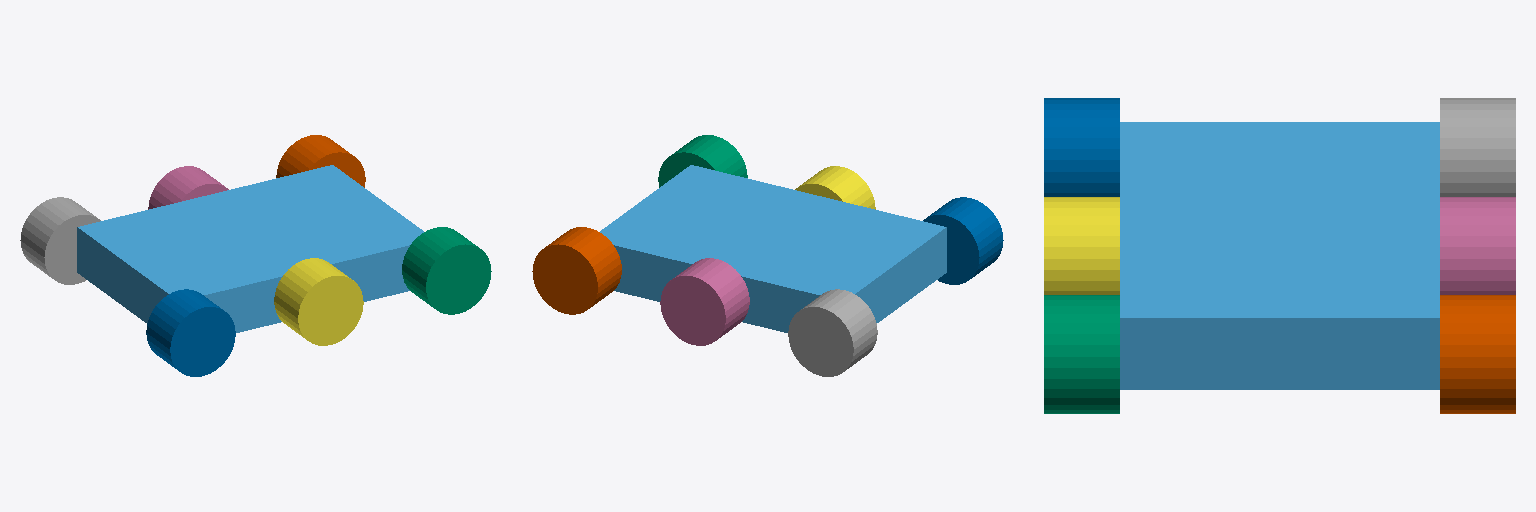
URDF robot description (drivetrain):
<?xml version="1.0" ?>
<!-- =================================================================================== -->
<!-- |    This document was autogenerated by xacro from drivetrain.urdf.xacro          | -->
<!-- |    EDITING THIS FILE BY HAND IS NOT RECOMMENDED                                 | -->
<!-- =================================================================================== -->
<robot name="drivetrain">
  <ros2_control name="right_front_wheel_actuator" type="actuator">
    <hardware>
      <plugin>gazebo_ros2_control/GazeboSystem</plugin>
    </hardware>
    <joint name="right_front_wheel_joint">
      <command_interface name="velocity">
        <param name="min">-14.660765716752369</param>
        <param name="max">14.660765716752369</param>
      </command_interface>
      <state_interface name="position"/>
      <state_interface name="velocity"/>
      <state_interface name="iq_current"/>
      <!-- TODO: acceleration, torque? -->
    </joint>
    <transmission name="transmission1">
      <!--  TODO: These are not actually parsed by ros2control yet: https://github.com/ros-controls/ros2_control/issues/32, https://github.com/ros-controls/ros2_control/issues/599 -->
      <plugin>transmission_interface/SimpleTransmission</plugin>
      <joint name="right_front_wheel_joint" role="joint1">
        <mechanical_reduction>0.04</mechanical_reduction>
      </joint>
    </transmission>
  </ros2_control>
  <ros2_control name="right_middle_wheel_actuator" type="actuator">
    <hardware>
      <plugin>gazebo_ros2_control/GazeboSystem</plugin>
    </hardware>
    <joint name="right_middle_wheel_joint">
      <command_interface name="velocity">
        <param name="min">-14.660765716752369</param>
        <param name="max">14.660765716752369</param>
      </command_interface>
      <state_interface name="position"/>
      <state_interface name="velocity"/>
      <state_interface name="iq_current"/>
      <!-- TODO: acceleration, torque? -->
    </joint>
    <transmission name="transmission1">
      <!--  TODO: These are not actually parsed by ros2control yet: https://github.com/ros-controls/ros2_control/issues/32, https://github.com/ros-controls/ros2_control/issues/599 -->
      <plugin>transmission_interface/SimpleTransmission</plugin>
      <joint name="right_middle_wheel_joint" role="joint1">
        <mechanical_reduction>0.04</mechanical_reduction>
      </joint>
    </transmission>
  </ros2_control>
  <ros2_control name="right_back_wheel_actuator" type="actuator">
    <hardware>
      <plugin>gazebo_ros2_control/GazeboSystem</plugin>
    </hardware>
    <joint name="right_back_wheel_joint">
      <command_interface name="velocity">
        <param name="min">-14.660765716752369</param>
        <param name="max">14.660765716752369</param>
      </command_interface>
      <state_interface name="position"/>
      <state_interface name="velocity"/>
      <state_interface name="iq_current"/>
      <!-- TODO: acceleration, torque? -->
    </joint>
    <transmission name="transmission1">
      <!--  TODO: These are not actually parsed by ros2control yet: https://github.com/ros-controls/ros2_control/issues/32, https://github.com/ros-controls/ros2_control/issues/599 -->
      <plugin>transmission_interface/SimpleTransmission</plugin>
      <joint name="right_back_wheel_joint" role="joint1">
        <mechanical_reduction>0.04</mechanical_reduction>
      </joint>
    </transmission>
  </ros2_control>
  <ros2_control name="left_front_wheel_actuator" type="actuator">
    <hardware>
      <plugin>gazebo_ros2_control/GazeboSystem</plugin>
    </hardware>
    <joint name="left_front_wheel_joint">
      <command_interface name="velocity">
        <param name="min">-14.660765716752369</param>
        <param name="max">14.660765716752369</param>
      </command_interface>
      <state_interface name="position"/>
      <state_interface name="velocity"/>
      <state_interface name="iq_current"/>
      <!-- TODO: acceleration, torque? -->
    </joint>
    <transmission name="transmission1">
      <!--  TODO: These are not actually parsed by ros2control yet: https://github.com/ros-controls/ros2_control/issues/32, https://github.com/ros-controls/ros2_control/issues/599 -->
      <plugin>transmission_interface/SimpleTransmission</plugin>
      <joint name="left_front_wheel_joint" role="joint1">
        <mechanical_reduction>0.04</mechanical_reduction>
      </joint>
    </transmission>
  </ros2_control>
  <ros2_control name="left_middle_wheel_actuator" type="actuator">
    <hardware>
      <plugin>gazebo_ros2_control/GazeboSystem</plugin>
    </hardware>
    <joint name="left_middle_wheel_joint">
      <command_interface name="velocity">
        <param name="min">-14.660765716752369</param>
        <param name="max">14.660765716752369</param>
      </command_interface>
      <state_interface name="position"/>
      <state_interface name="velocity"/>
      <state_interface name="iq_current"/>
      <!-- TODO: acceleration, torque? -->
    </joint>
    <transmission name="transmission1">
      <!--  TODO: These are not actually parsed by ros2control yet: https://github.com/ros-controls/ros2_control/issues/32, https://github.com/ros-controls/ros2_control/issues/599 -->
      <plugin>transmission_interface/SimpleTransmission</plugin>
      <joint name="left_middle_wheel_joint" role="joint1">
        <mechanical_reduction>0.04</mechanical_reduction>
      </joint>
    </transmission>
  </ros2_control>
  <ros2_control name="left_back_wheel_actuator" type="actuator">
    <hardware>
      <plugin>gazebo_ros2_control/GazeboSystem</plugin>
    </hardware>
    <joint name="left_back_wheel_joint">
      <command_interface name="velocity">
        <param name="min">-14.660765716752369</param>
        <param name="max">14.660765716752369</param>
      </command_interface>
      <state_interface name="position"/>
      <state_interface name="velocity"/>
      <state_interface name="iq_current"/>
      <!-- TODO: acceleration, torque? -->
    </joint>
    <transmission name="transmission1">
      <!--  TODO: These are not actually parsed by ros2control yet: https://github.com/ros-controls/ros2_control/issues/32, https://github.com/ros-controls/ros2_control/issues/599 -->
      <plugin>transmission_interface/SimpleTransmission</plugin>
      <joint name="left_back_wheel_joint" role="joint1">
        <mechanical_reduction>0.04</mechanical_reduction>
      </joint>
    </transmission>
  </ros2_control>
  <!-- Gazebo plugins -->
  <gazebo reference="world">
    </gazebo>
  <gazebo>
    <plugin filename="libgazebo_ros2_control.so" name="gazebo_ros2_control">
      <robot_param>robot_description</robot_param>
      <robot_param_node>robot_state_publisher</robot_param_node>
      <robot_sim_type>gazebo_ros2_control/DefaultRobotHWSim</robot_sim_type>
      <parameters>/workspaces/ROS-DOCKER/ros2_ws/install/uwrt_mars_rover_drivetrain_description/share/uwrt_mars_rover_drivetrain_description/config/drivetrain_controllers.yaml</parameters>
    </plugin>
  </gazebo>
  <link name="base_link"/>
  <joint name="base_link_to_chassis" type="fixed">
    <parent link="base_link"/>
    <child link="chassis"/>
    <origin rpy="0 0 0" xyz="0 0 0.15"/>
  </joint>
  <link name="chassis">
    <visual>
      <geometry>
        <box size="1.17 0.807 0.2"/>
      </geometry>
    </visual>
    <collision>
      <geometry>
        <box size="1.17 0.807 0.2"/>
      </geometry>
    </collision>
    <inertial>
      <mass value="5"/>
      <inertia ixx="1e-3" ixy="0.0" ixz="0.0" iyy="1e-3" iyz="0.0" izz="1e-3"/>
    </inertial>
  </link>
  <joint name="right_front_wheel_joint" type="continuous">
    <axis rpy="0 0 0" xyz="0 1 0"/>
    <parent link="chassis"/>
    <child link="right_front_wheel"/>
    <origin rpy="0 0 0" xyz="0.585 -0.49850000000000005 0"/>
  </joint>
  <link name="right_front_wheel">
    <visual>
      <origin rpy="1.5707963267948966 0 0" xyz="0 0 0"/>
      <geometry>
        <cylinder length="0.19" radius="0.15"/>
      </geometry>
    </visual>
    <collision>
      <origin rpy="1.5707963267948966 0 0" xyz="0 0 0"/>
      <geometry>
        <cylinder length="0.19" radius="0.15"/>
      </geometry>
    </collision>
    <inertial>
      <mass value="2.12"/>
      <inertia ixx="1e-3" ixy="0.0" ixz="0.0" iyy="1e-3" iyz="0.0" izz="1e-3"/>
    </inertial>
  </link>
  <joint name="right_middle_wheel_joint" type="continuous">
    <axis rpy="0 0 0" xyz="0 1 0"/>
    <parent link="chassis"/>
    <child link="right_middle_wheel"/>
    <origin rpy="0 0 0" xyz="0 -0.49850000000000005 0"/>
  </joint>
  <link name="right_middle_wheel">
    <visual>
      <origin rpy="1.5707963267948966 0 0" xyz="0 0 0"/>
      <geometry>
        <cylinder length="0.19" radius="0.15"/>
      </geometry>
    </visual>
    <collision>
      <origin rpy="1.5707963267948966 0 0" xyz="0 0 0"/>
      <geometry>
        <cylinder length="0.19" radius="0.15"/>
      </geometry>
    </collision>
    <inertial>
      <mass value="2.12"/>
      <inertia ixx="1e-3" ixy="0.0" ixz="0.0" iyy="1e-3" iyz="0.0" izz="1e-3"/>
    </inertial>
  </link>
  <joint name="right_back_wheel_joint" type="continuous">
    <axis rpy="0 0 0" xyz="0 1 0"/>
    <parent link="chassis"/>
    <child link="right_back_wheel"/>
    <origin rpy="0 0 0" xyz="-0.585 -0.49850000000000005 0"/>
  </joint>
  <link name="right_back_wheel">
    <visual>
      <origin rpy="1.5707963267948966 0 0" xyz="0 0 0"/>
      <geometry>
        <cylinder length="0.19" radius="0.15"/>
      </geometry>
    </visual>
    <collision>
      <origin rpy="1.5707963267948966 0 0" xyz="0 0 0"/>
      <geometry>
        <cylinder length="0.19" radius="0.15"/>
      </geometry>
    </collision>
    <inertial>
      <mass value="2.12"/>
      <inertia ixx="1e-3" ixy="0.0" ixz="0.0" iyy="1e-3" iyz="0.0" izz="1e-3"/>
    </inertial>
  </link>
  <joint name="left_front_wheel_joint" type="continuous">
    <axis rpy="0 0 0" xyz="0 1 0"/>
    <parent link="chassis"/>
    <child link="left_front_wheel"/>
    <origin rpy="0 0 0" xyz="0.585 0.49850000000000005 0"/>
  </joint>
  <link name="left_front_wheel">
    <visual>
      <origin rpy="1.5707963267948966 0 0" xyz="0 0 0"/>
      <geometry>
        <cylinder length="0.19" radius="0.15"/>
      </geometry>
    </visual>
    <collision>
      <origin rpy="1.5707963267948966 0 0" xyz="0 0 0"/>
      <geometry>
        <cylinder length="0.19" radius="0.15"/>
      </geometry>
    </collision>
    <inertial>
      <mass value="2.12"/>
      <inertia ixx="1e-3" ixy="0.0" ixz="0.0" iyy="1e-3" iyz="0.0" izz="1e-3"/>
    </inertial>
  </link>
  <joint name="left_middle_wheel_joint" type="continuous">
    <axis rpy="0 0 0" xyz="0 1 0"/>
    <parent link="chassis"/>
    <child link="left_middle_wheel"/>
    <origin rpy="0 0 0" xyz="0 0.49850000000000005 0"/>
  </joint>
  <link name="left_middle_wheel">
    <visual>
      <origin rpy="1.5707963267948966 0 0" xyz="0 0 0"/>
      <geometry>
        <cylinder length="0.19" radius="0.15"/>
      </geometry>
    </visual>
    <collision>
      <origin rpy="1.5707963267948966 0 0" xyz="0 0 0"/>
      <geometry>
        <cylinder length="0.19" radius="0.15"/>
      </geometry>
    </collision>
    <inertial>
      <mass value="2.12"/>
      <inertia ixx="1e-3" ixy="0.0" ixz="0.0" iyy="1e-3" iyz="0.0" izz="1e-3"/>
    </inertial>
  </link>
  <joint name="left_back_wheel_joint" type="continuous">
    <axis rpy="0 0 0" xyz="0 1 0"/>
    <parent link="chassis"/>
    <child link="left_back_wheel"/>
    <origin rpy="0 0 0" xyz="-0.585 0.49850000000000005 0"/>
  </joint>
  <link name="left_back_wheel">
    <visual>
      <origin rpy="1.5707963267948966 0 0" xyz="0 0 0"/>
      <geometry>
        <cylinder length="0.19" radius="0.15"/>
      </geometry>
    </visual>
    <collision>
      <origin rpy="1.5707963267948966 0 0" xyz="0 0 0"/>
      <geometry>
        <cylinder length="0.19" radius="0.15"/>
      </geometry>
    </collision>
    <inertial>
      <mass value="2.12"/>
      <inertia ixx="1e-3" ixy="0.0" ixz="0.0" iyy="1e-3" iyz="0.0" izz="1e-3"/>
    </inertial>
  </link>
</robot>

--- Facts derived from the render (not from the file) ---
The picture shows the robot from 3 angles, left to right: view 1: azimuth 30°, elevation 25°; view 2: azimuth 150°, elevation 25°; view 3: azimuth 270°, elevation 25°; orthographic projection.
Robot: drivetrain — 8 links, 7 joints (6 continuous, 1 fixed); root link base_link; default pose: all joints at 0.
Links seen in each view (by area): view 1: chassis, right_front_wheel, right_back_wheel, right_middle_wheel, left_back_wheel, left_front_wheel, left_middle_wheel; view 2: chassis, left_front_wheel, left_back_wheel, left_middle_wheel, right_back_wheel, right_front_wheel, right_middle_wheel; view 3: chassis, right_front_wheel, left_front_wheel, right_back_wheel, left_back_wheel, right_middle_wheel, left_middle_wheel.
Boxes of the visible links, x1=… form: chassis: x1=77, y1=165, x2=423, y2=332; right_front_wheel: x1=402, y1=227, x2=491, y2=314; right_back_wheel: x1=146, y1=289, x2=235, y2=376; right_middle_wheel: x1=274, y1=258, x2=363, y2=345; left_back_wheel: x1=20, y1=197, x2=100, y2=284; left_front_wheel: x1=276, y1=135, x2=365, y2=187; left_middle_wheel: x1=148, y1=166, x2=228, y2=209; chassis: x1=600, y1=165, x2=946, y2=332; left_front_wheel: x1=532, y1=227, x2=621, y2=314; left_back_wheel: x1=788, y1=289, x2=877, y2=376; left_middle_wheel: x1=660, y1=258, x2=749, y2=345; right_back_wheel: x1=923, y1=197, x2=1003, y2=284; right_front_wheel: x1=658, y1=135, x2=747, y2=187; right_middle_wheel: x1=795, y1=166, x2=875, y2=209; chassis: x1=1120, y1=122, x2=1439, y2=389; right_front_wheel: x1=1044, y1=295, x2=1119, y2=413; left_front_wheel: x1=1440, y1=295, x2=1515, y2=413; right_back_wheel: x1=1044, y1=98, x2=1119, y2=196; left_back_wheel: x1=1440, y1=98, x2=1515, y2=196; right_middle_wheel: x1=1044, y1=197, x2=1119, y2=294; left_middle_wheel: x1=1440, y1=197, x2=1515, y2=294.
Size in the robot's own frame: 1.47 by 1.19 by 0.3 metres.
Geometry: primitives only (box / cylinder / sphere), no mesh files.
